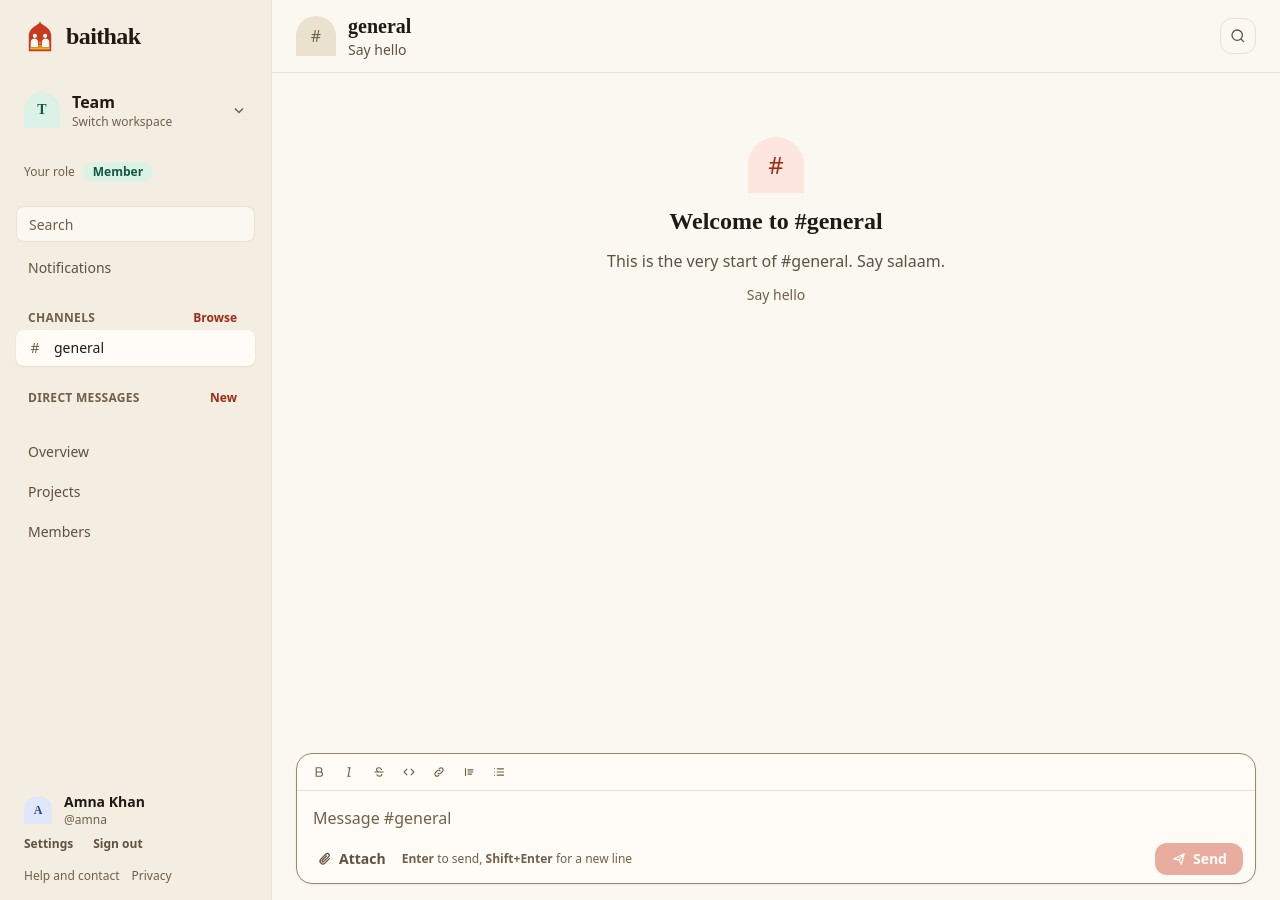
Test: a channel › a sent message shows at once and appears once, whatever arrives first
Expected: the text "This is the very start of #general. Say salaam." is shown, [607,249,945,273]
Type "Salaam" into the dropdown labelled "Message #general" at (776, 819), box [305,799,1247,839]
Then press Enter
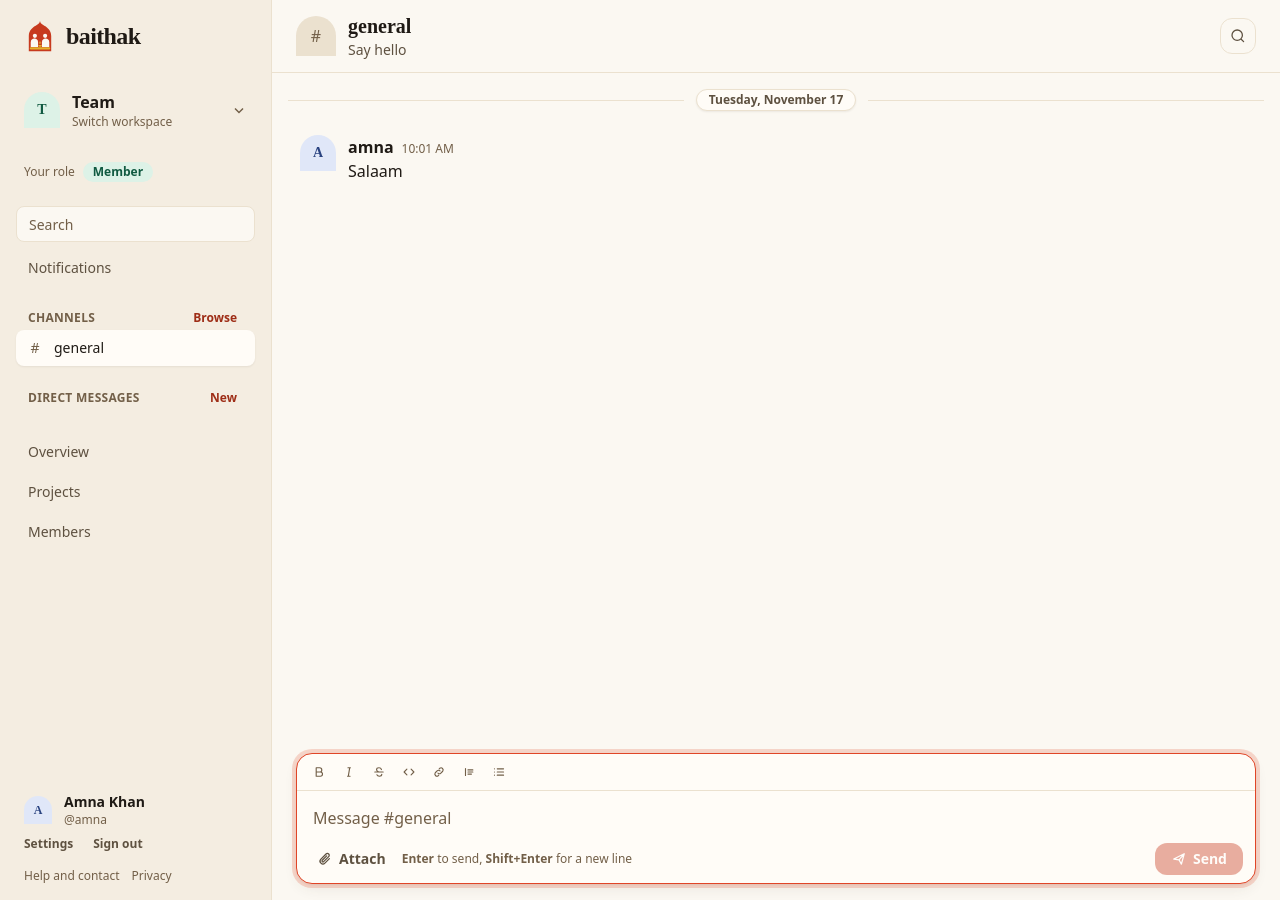
Result: the text "Salaam" is shown once at [348,160,403,182]
